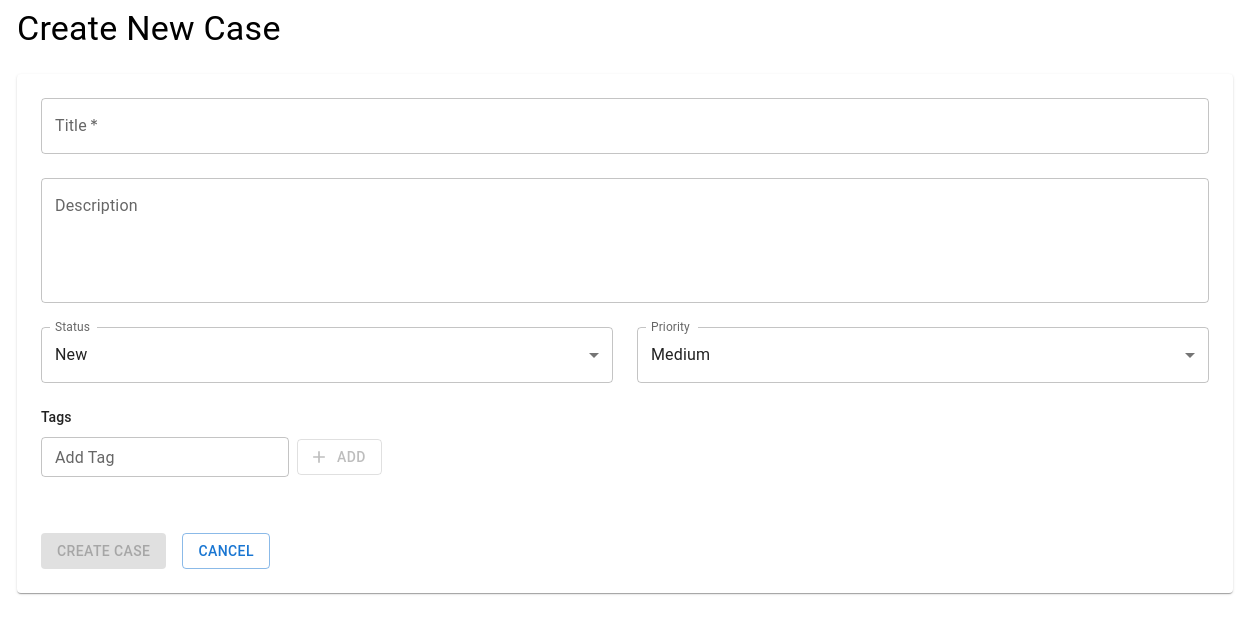
Test: CaseForm — tag management › removes a tag when its delete icon is clicked
Type "urgent" into the field labelled "Add Tag" at x=165, y=457, box [41,437,289,477]
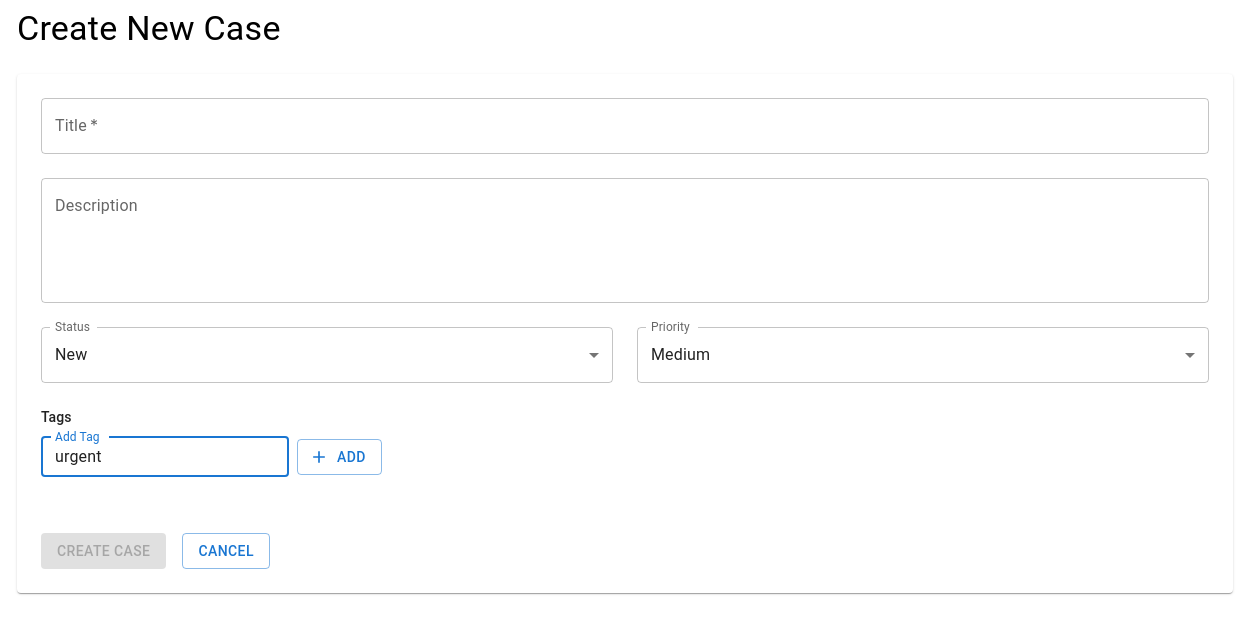
Click the button "Add" at x=339, y=457, box [297,439,382,475]
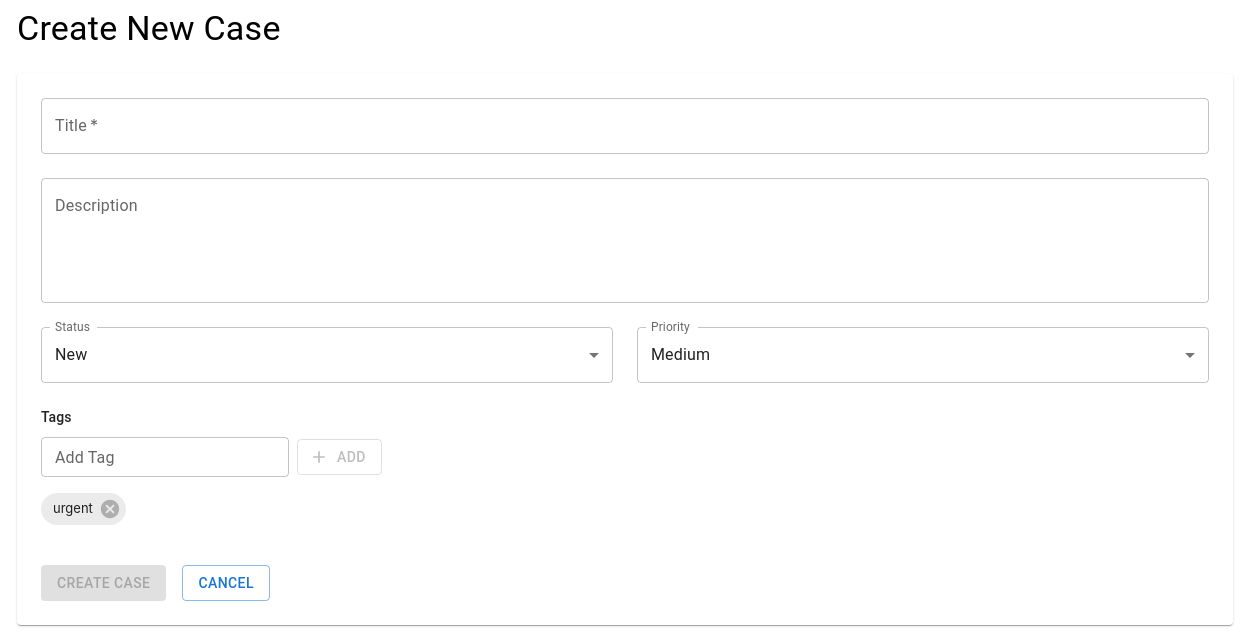
Now the text "urgent" is shown, box [53,500,93,516]
Now the 4th icon is shown
Click the 4th icon at x=110, y=509, box [99,498,121,520]
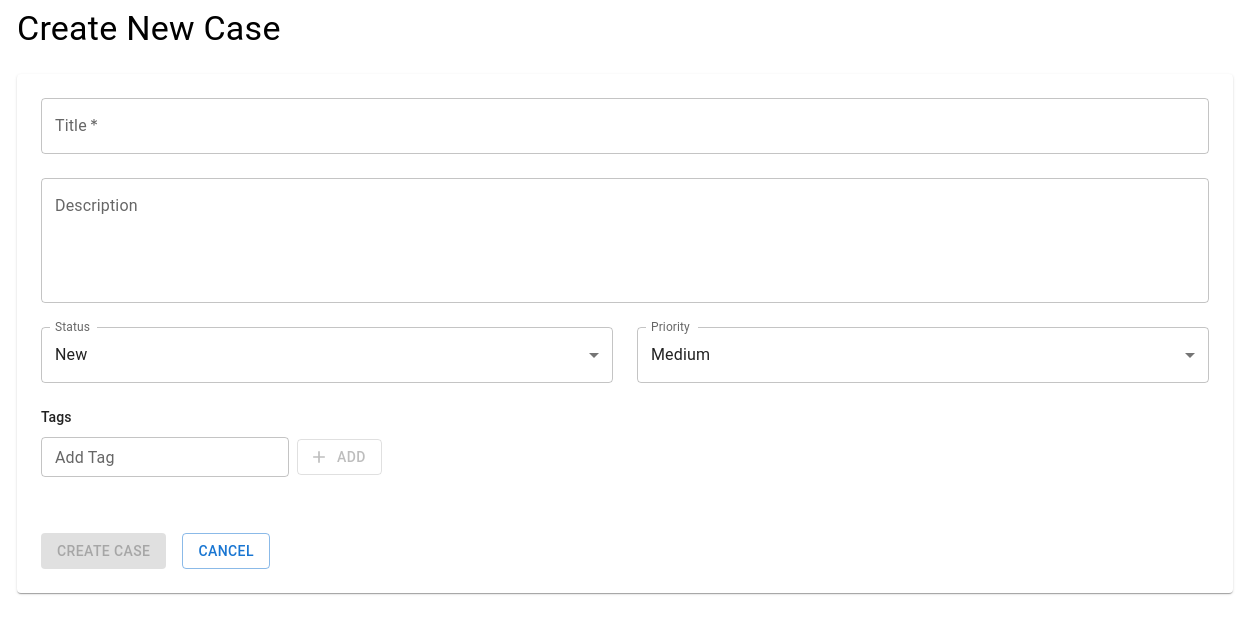
Now the button "urgent" is gone
